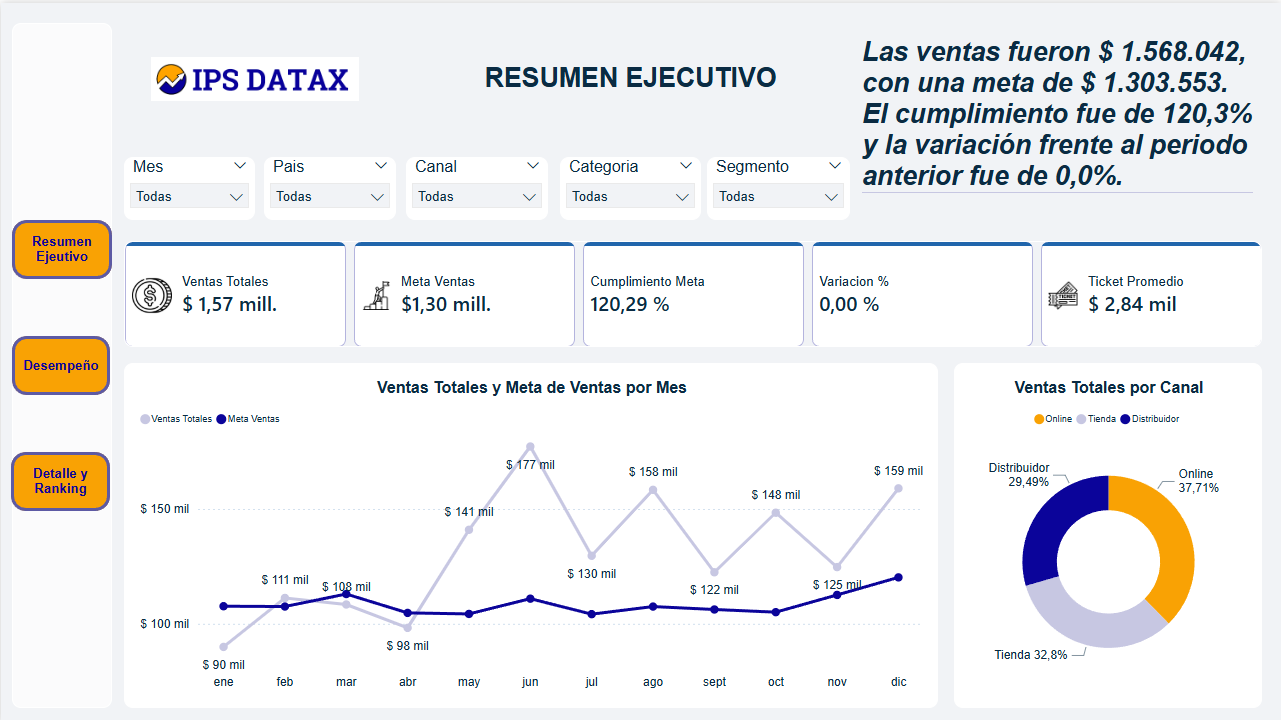

Layout of this report page (visuals, bound fields, positions):
{"tool":"powerbi","page":{"name":"Resumen Ejecutivo","canvas":[1280,720],"ordinal":0},"visuals":[{"type":"shape","box":[11.1,19.9,99.5,685.3],"z":0},{"type":"image","box":[134.9,19.9,237.7,111.6],"z":1000},{"type":"slicer","fields":{"Values":["Calendario.Jerarquía de fechas.Mes"]},"box":[122.7,153.6,131.5,63],"z":2000},{"type":"slicer","fields":{"Values":["TblDimClienteDirty.Pais"]},"box":[263.1,153.6,131.5,63],"z":3000},{"type":"slicer","fields":{"Values":["TblDimCanalDirty.Canal"]},"box":[404.6,153.6,142.6,63],"z":4000},{"type":"slicer","fields":{"Values":["TblDimProductoDirty.Categoria"]},"box":[559.3,153.6,140.4,63],"z":5000},{"type":"slicer","fields":{"Values":["TblDimClienteDirty.Segmento"]},"box":[706.3,153.6,142.6,63],"z":6000},{"type":"cardVisual","fields":{"Data":["TblFactVentasDirty.Ventas Totales Netas","TblFactVentasDirty.Meta de Ventas","TblFactVentasDirty.Cumplimiento de Meta","TblFactVentasDirty.Variacion Porcentual","TblFactVentasDirty.Ticket Promedio"]},"box":[122.7,237.7,1138.5,106.1],"z":7000},{"type":"lineChart","title":"Ventas Totales y Meta de Ventas por Mes","fields":{"Y":["TblFactVentasDirty.Ventas Totales Netas","Medidas.Meta Ventas"],"Category":["Calendario.Mes"]},"box":[122.7,360.3,814.6,344.9],"z":8000},{"type":"donutChart","title":"Ventas Totales por Canal","fields":{"Category":["TblDimCanalDirty.Canal"],"Y":["TblFactVentasDirty.Ventas Totales Netas"]},"box":[952.8,360.3,308.4,344.9],"z":9000},{"type":"textbox","box":[451,59.7,357,33.2],"z":11000},{"type":"actionButton","box":[11.4,216.6,99.2,59.3],"z":12000},{"type":"actionButton","box":[10.7,332.6,98.2,59.3],"z":13000},{"type":"actionButton","box":[10.3,449.1,99.2,59.3],"z":14000},{"type":"textbox","title":"Resumen Ejecutivo","box":[861.2,19.4,390.7,197.5],"z":14001}]}

Visuals, with their boxes in screenshot pixels (x1, y1, x2, y2), scaled from the page's 1280x720 canvas onto the 1281x720 screenshot:
shape: Rect(11, 20, 111, 705)
image: Rect(135, 20, 373, 132)
slicer - Calendario.Jerarquía de fechas.Mes: Rect(123, 154, 254, 217)
slicer - TblDimClienteDirty.Pais: Rect(263, 154, 395, 217)
slicer - TblDimCanalDirty.Canal: Rect(405, 154, 548, 217)
slicer - TblDimProductoDirty.Categoria: Rect(560, 154, 700, 217)
slicer - TblDimClienteDirty.Segmento: Rect(707, 154, 850, 217)
cardVisual - TblFactVentasDirty.Ventas Totales Netas x TblFactVentasDirty.Meta de Ventas: Rect(123, 238, 1262, 344)
"Ventas Totales y Meta de Ventas por Mes" lineChart: Rect(123, 360, 938, 705)
"Ventas Totales por Canal" donutChart: Rect(954, 360, 1262, 705)
textbox: Rect(451, 60, 809, 93)
actionButton: Rect(11, 217, 111, 276)
actionButton: Rect(11, 333, 109, 392)
actionButton: Rect(10, 449, 110, 508)
"Resumen Ejecutivo" textbox: Rect(862, 19, 1253, 217)
